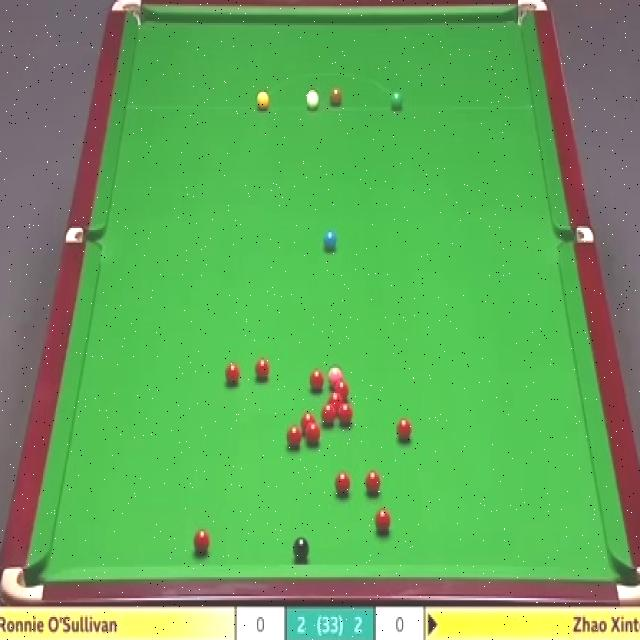black-ball: (291, 534, 310, 559)
blue-ball: (323, 231, 337, 249)
brown-ball: (331, 87, 342, 106)
green-ball: (389, 88, 404, 112)
pink-ball: (324, 368, 342, 383)
red-ball: (396, 414, 412, 442), (193, 530, 209, 558), (223, 362, 240, 386), (306, 419, 322, 444), (336, 474, 351, 499), (374, 507, 388, 533), (321, 403, 336, 427), (364, 469, 379, 492), (253, 359, 270, 379), (326, 391, 342, 410), (287, 428, 302, 448), (338, 400, 352, 420), (311, 368, 323, 391), (334, 381, 348, 398)
white-ball: (307, 92, 319, 107)
yellow-ball: (256, 90, 270, 111)
